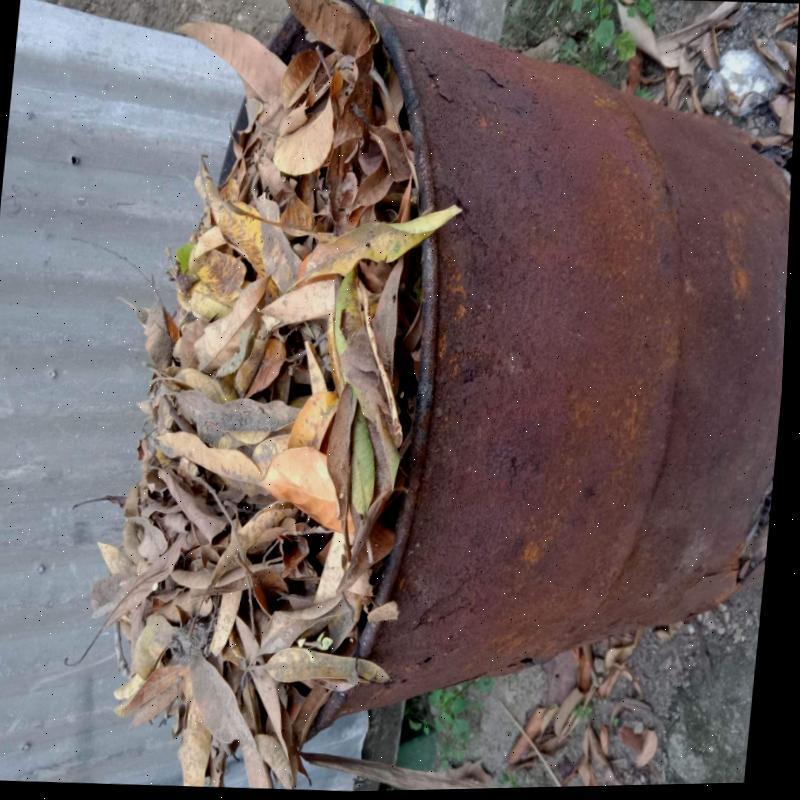treeleaves: (91, 467, 213, 667), (295, 203, 463, 284), (160, 365, 302, 448), (346, 255, 404, 439), (272, 49, 355, 175), (341, 100, 419, 229), (174, 20, 288, 105), (194, 154, 267, 277), (194, 274, 271, 376), (156, 430, 269, 496), (261, 445, 346, 532), (189, 650, 257, 749), (176, 228, 249, 319), (250, 646, 394, 691), (257, 591, 351, 655), (327, 382, 358, 561), (286, 0, 380, 57), (189, 535, 240, 638), (260, 277, 336, 330), (288, 390, 340, 449), (239, 507, 299, 555), (209, 589, 243, 654)
